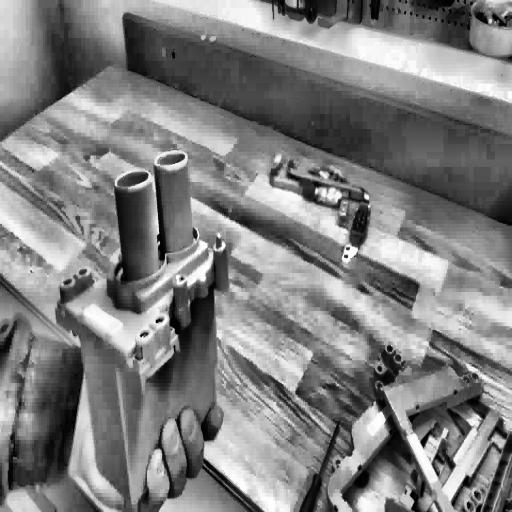busbar: (269, 144, 372, 264)
connector: (46, 148, 234, 512)
